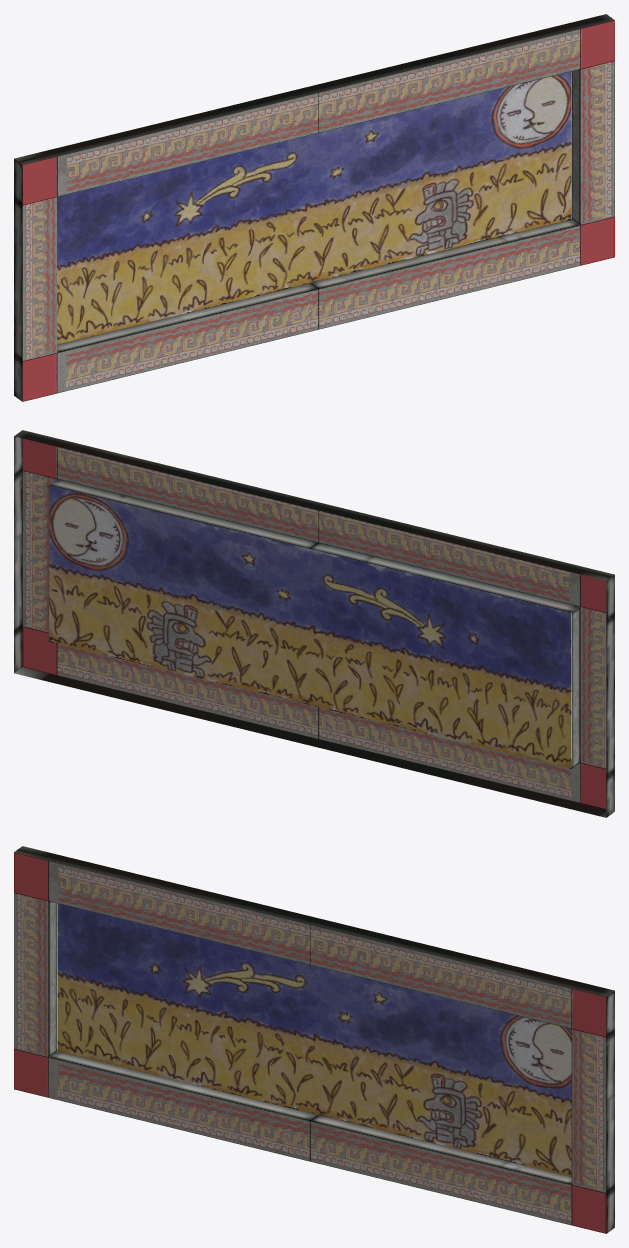
Rendered from Mural_Pasado-colv2.glb.
3 views of the same model, one above another, from view 1: azimuth 30°, elevation 25°; view 2: azimuth 150°, elevation 25°; view 3: azimuth 330°, elevation 25° (orthographic).
Parts seen in each view (by area): view 1: Mural_Guarda, B12-col, C12-col, C3-col, D12-col, D3-col, D5-col, B3-col, B5-col, C5-col, D4-col, B2-col (+37 smaller); view 2: Mural_Guarda, C11-col, D11-col, A11-col, B11-col, B4-col, C4-col, D4-col, A2-col, A4-col, B2-col, C2-col (+37 smaller); view 3: Mural_Guarda, B11-col, C11-col, C4-col, D11-col, D4-col, B2-col, B4-col, D2-col, C2-col, B1-col, B6-col (+37 smaller).
Part boxes in pixels (x1=…): Mural_Guarda: x1=14, y1=14, x2=614, y2=401; B12-col: x1=527, y1=102, x2=571, y2=151; C12-col: x1=527, y1=141, x2=571, y2=190; C3-col: x1=135, y1=237, x2=179, y2=286; D12-col: x1=527, y1=180, x2=571, y2=229; D3-col: x1=135, y1=276, x2=179, y2=325; D5-col: x1=222, y1=254, x2=266, y2=303; B3-col: x1=135, y1=198, x2=179, y2=247; B5-col: x1=222, y1=176, x2=266, y2=225; C5-col: x1=222, y1=215, x2=266, y2=264; D4-col: x1=179, y1=265, x2=222, y2=314; B2-col: x1=92, y1=208, x2=135, y2=257; Mural_Guarda: x1=14, y1=430, x2=614, y2=817; C11-col: x1=92, y1=574, x2=136, y2=623; D11-col: x1=92, y1=613, x2=136, y2=662; A11-col: x1=92, y1=496, x2=136, y2=545; B11-col: x1=92, y1=535, x2=136, y2=584; B4-col: x1=397, y1=609, x2=441, y2=658; C4-col: x1=397, y1=648, x2=441, y2=697; D4-col: x1=397, y1=687, x2=441, y2=736; A2-col: x1=484, y1=592, x2=528, y2=640; A4-col: x1=397, y1=570, x2=441, y2=619; B2-col: x1=484, y1=631, x2=528, y2=679; C2-col: x1=484, y1=670, x2=528, y2=718; Mural_Guarda: x1=14, y1=846, x2=614, y2=1233; B11-col: x1=492, y1=1040, x2=536, y2=1089; C11-col: x1=492, y1=1079, x2=536, y2=1128; C4-col: x1=187, y1=1005, x2=231, y2=1054; D11-col: x1=492, y1=1118, x2=536, y2=1167; D4-col: x1=187, y1=1044, x2=231, y2=1093; B2-col: x1=100, y1=945, x2=144, y2=993; B4-col: x1=187, y1=966, x2=231, y2=1015; D2-col: x1=100, y1=1023, x2=144, y2=1071; C2-col: x1=100, y1=984, x2=144, y2=1032; B1-col: x1=57, y1=934, x2=100, y2=983; B6-col: x1=275, y1=987, x2=318, y2=1036.
Bounding box in the file's own units: 2.04 × 0.7804 × 0.0509.
Materials: 2 (2 with a texture image).
